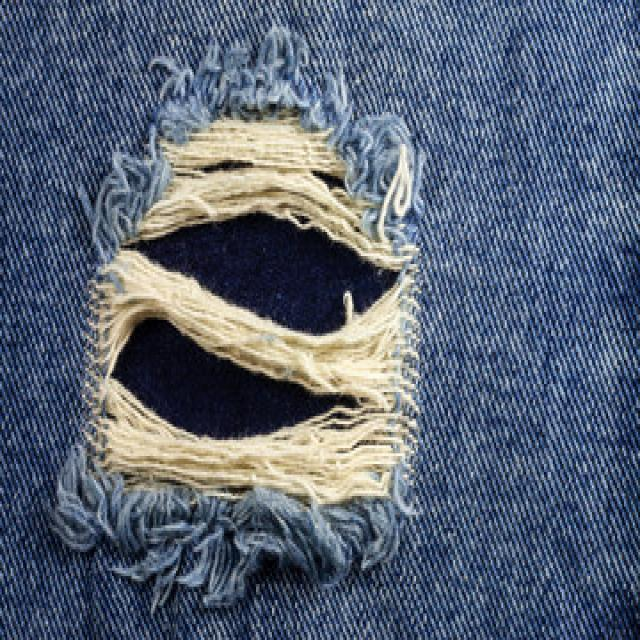Hole: (52, 27, 425, 610)
